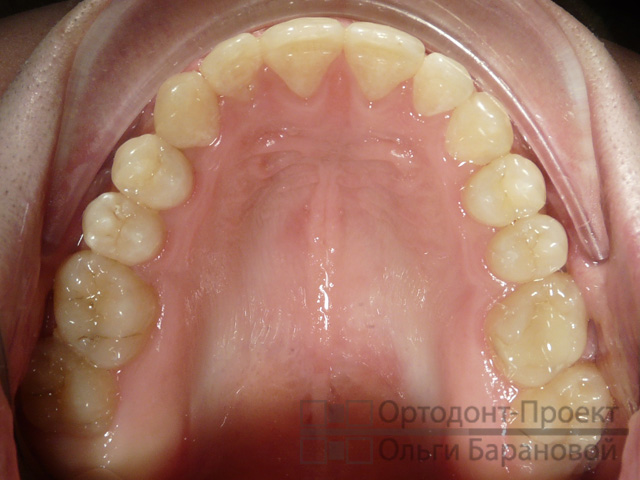UL1BC_healthy: (464, 161, 546, 218)
UL1M_healthy: (491, 281, 591, 381)
UL2BC_healthy: (496, 221, 570, 281)
ULCI_healthy: (344, 22, 422, 105)
ULC_healthy: (451, 101, 511, 163)
ULLI_healthy: (416, 54, 472, 112)
UR1BC_healthy: (114, 138, 194, 206)
UR1M_healthy: (61, 254, 159, 362)
UR2BC_healthy: (81, 193, 168, 262)
UR2M_healthy: (31, 348, 120, 435)
URCI_healthy: (259, 16, 344, 99)
URC_healthy: (152, 77, 222, 147)
URLI_healthy: (208, 36, 259, 99)
